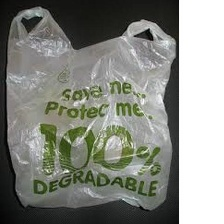plastic_bag: (0, 1, 179, 214)
